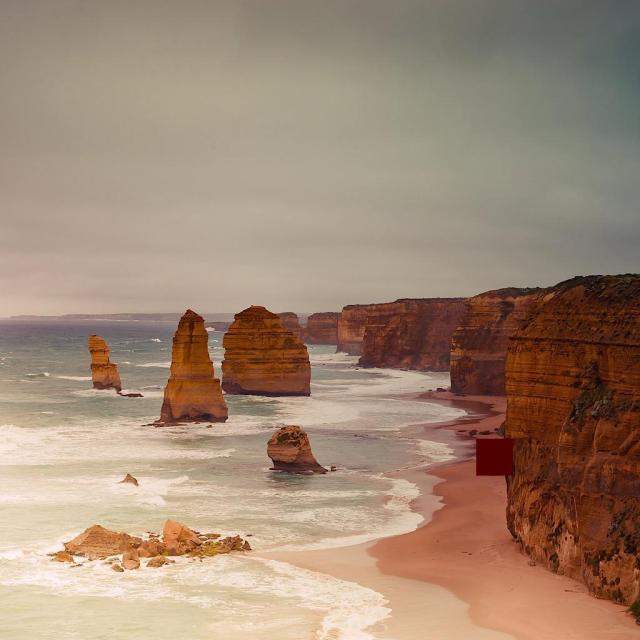RedSquare: (470, 432, 524, 482)
